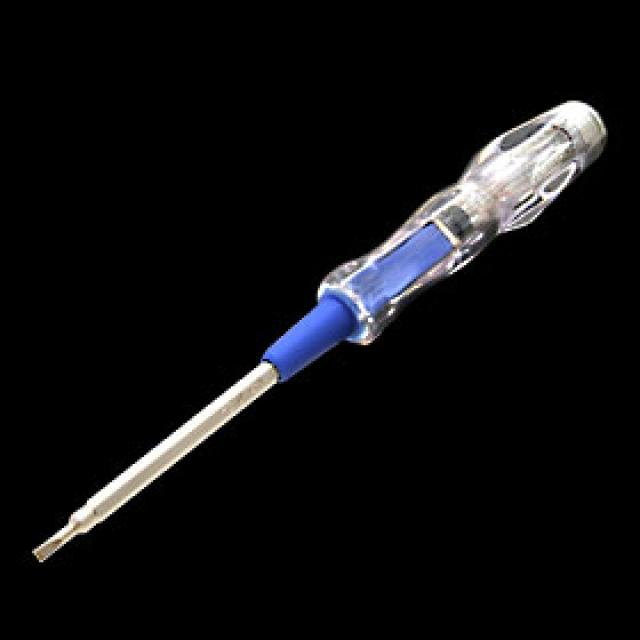screw_driver: (35, 101, 606, 561)
